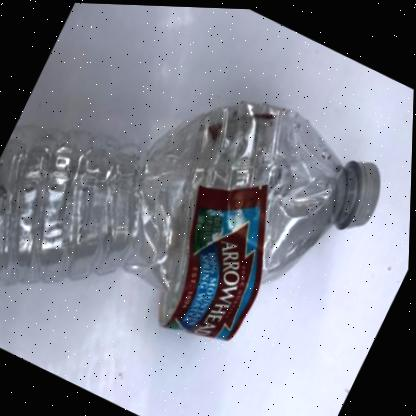Plastic: (0, 99, 380, 337)
